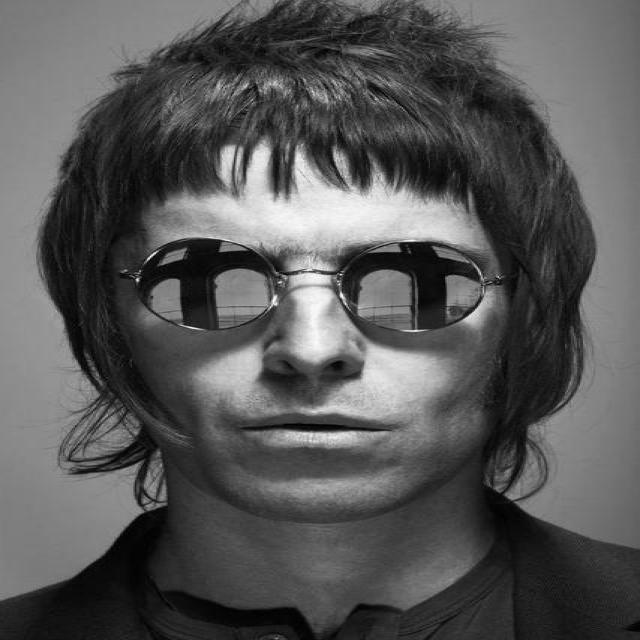glasses: (117, 236, 516, 334)
